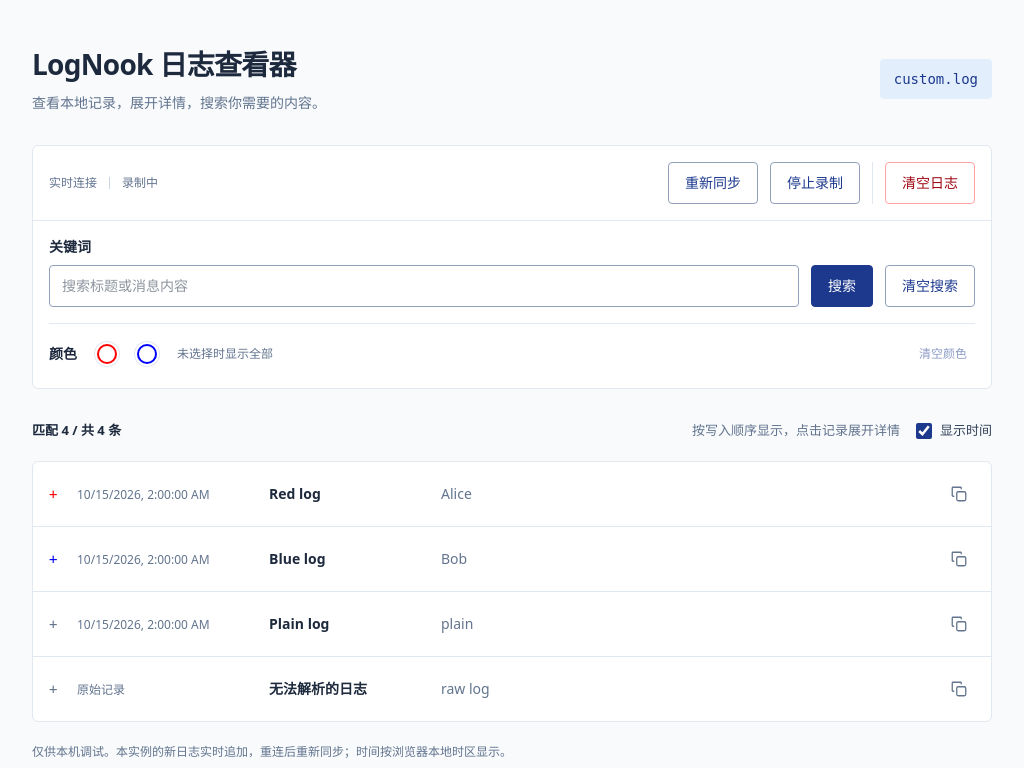
combines colors with submitted search while retaining all color options and the selection
The width and height of the screenshot is (1024, 768).
Click the button named "筛选颜色 blue": (147, 354) [129,336,165,372]
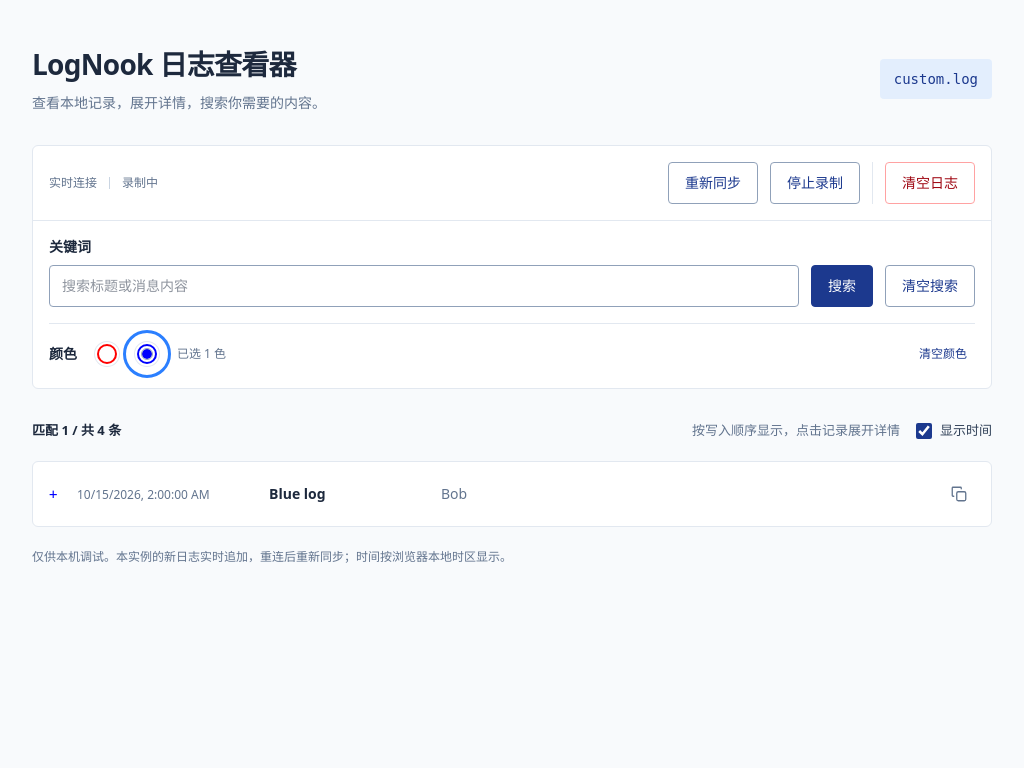
In the search field labelled "关键词": (424, 286) [49,265,799,307], type "Alice"
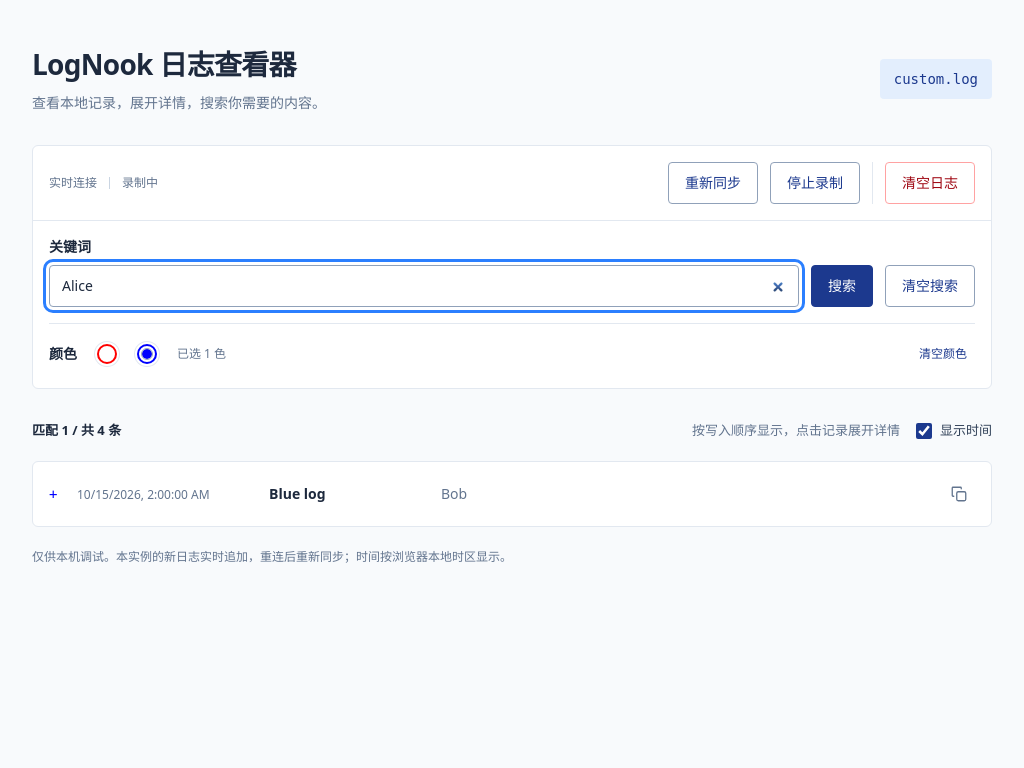
Expected: the text "Blue log" is shown, [269,484,326,503]
Click the button "搜索": (842, 286) [811,265,873,307]
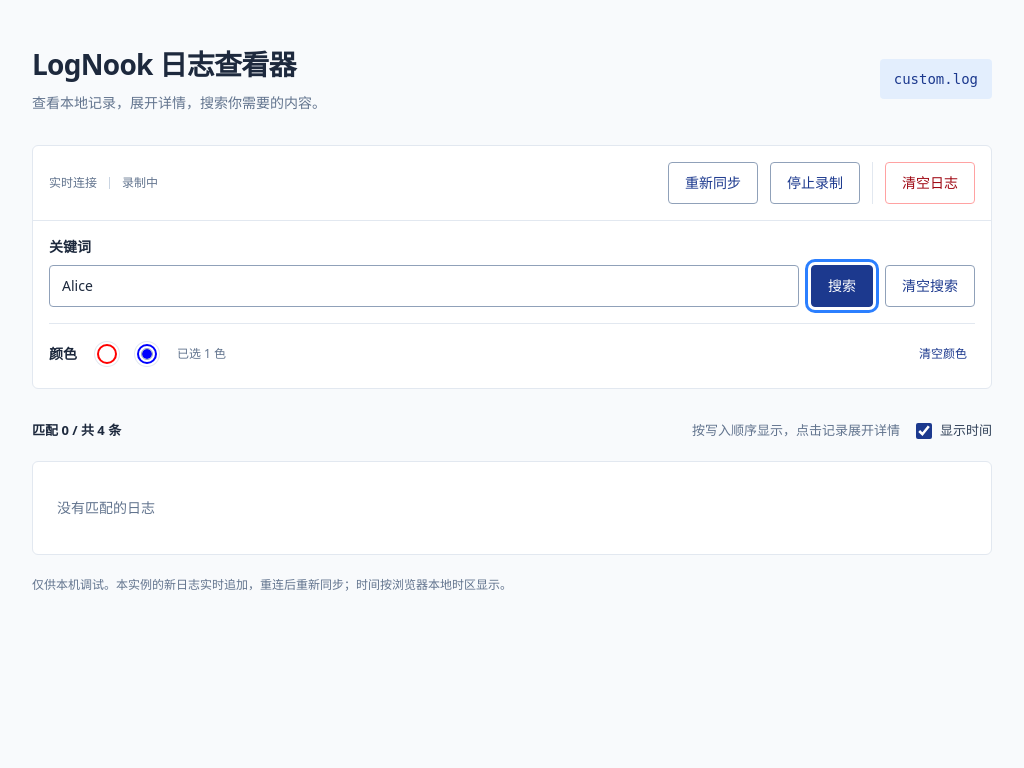
Expected: the button named "筛选颜色 red" is shown, [89,336,125,372]
Expected: the text "没有匹配的日志" is shown, [57,498,155,517]
Expected: the text "匹配 0 / 共 4 条" is shown, [32,422,121,440]
Click the button "清空搜索": (930, 286) [885,265,975,307]
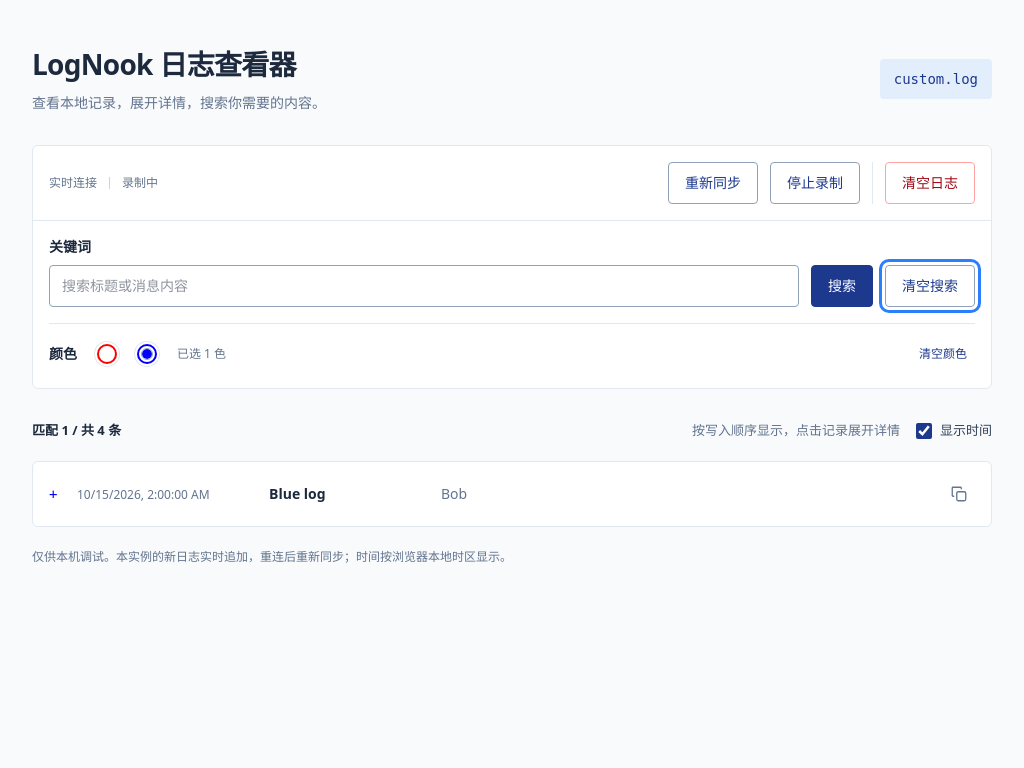
Expected: the heading "Red log" is not shown
Expected: the text "Blue log" is shown, [269,484,326,503]
